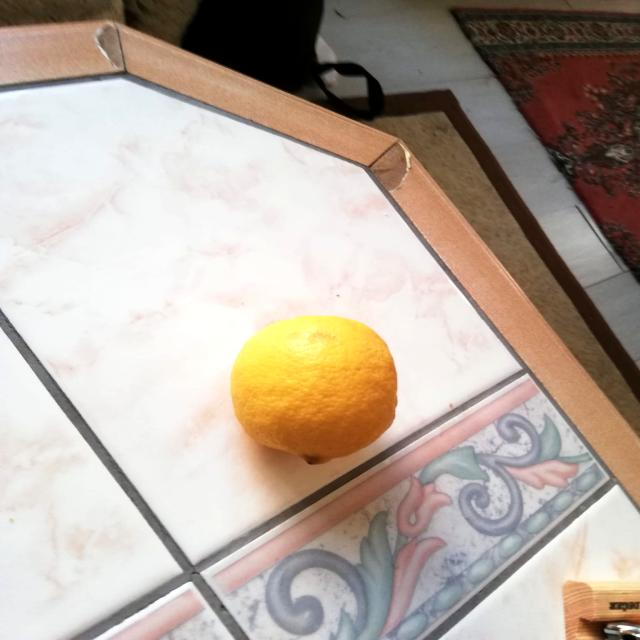lemon: (222, 311, 408, 469)
